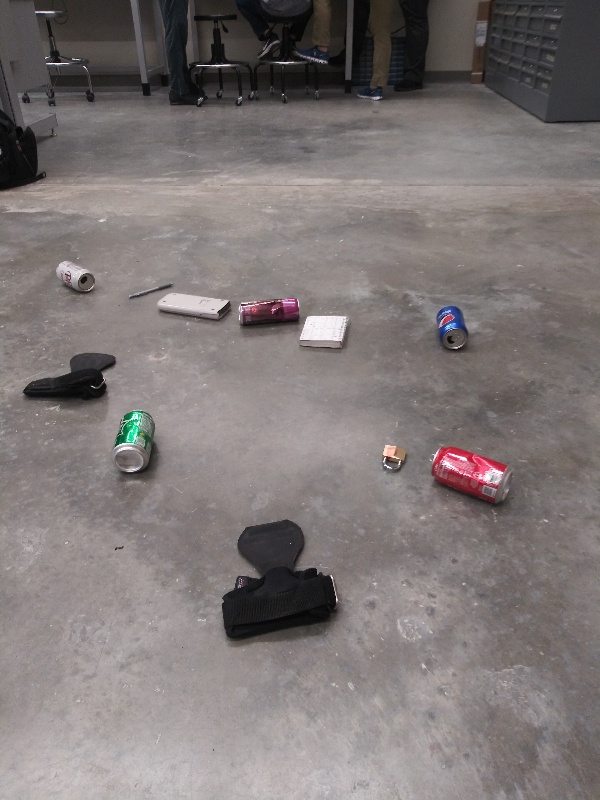can: (424, 442, 518, 510), (107, 407, 159, 478), (233, 292, 306, 332), (431, 303, 475, 355), (51, 255, 99, 298)
